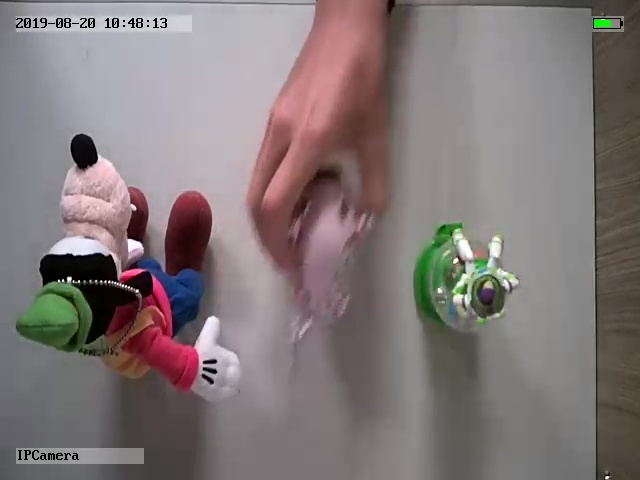buzz: (411, 221, 520, 336)
goofy: (14, 131, 243, 406)
